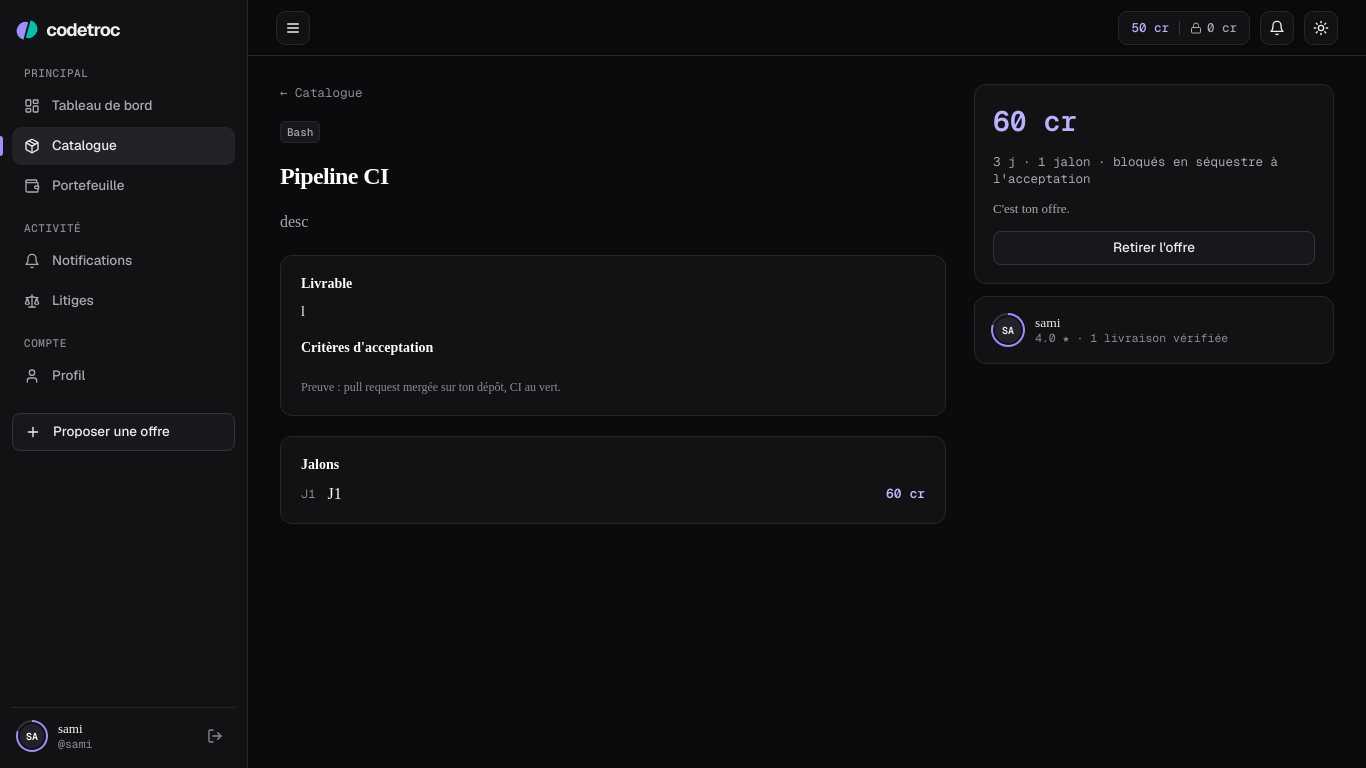
it: retrait d'offre (bug 2) › n'annonce pas de succès quand l'API répond 503
The width and height of the screenshot is (1366, 768).
Click the button "Retirer l'offre".
click(1154, 248)  # box [993,231,1315,265]
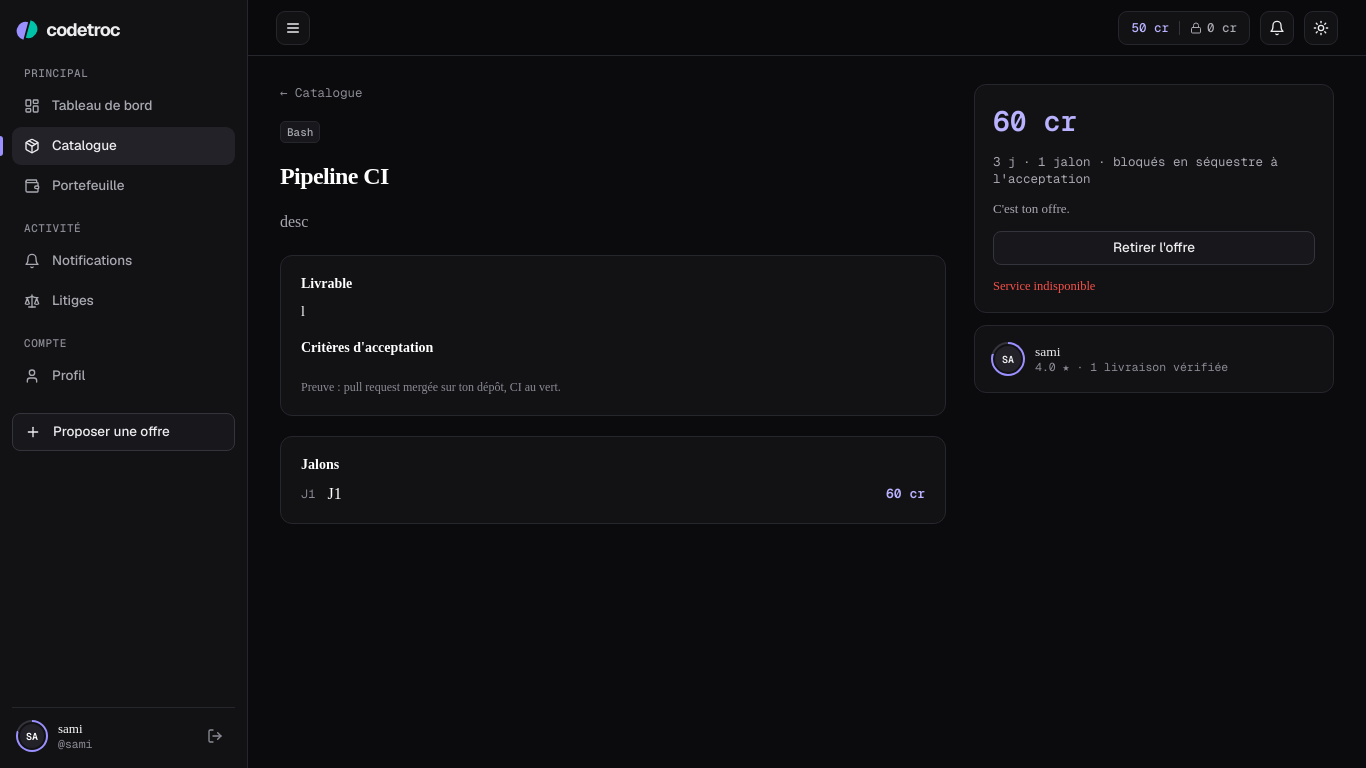
Expected: the heading "Pipeline CI" is shown, [280,163,389,189]
Result: the message reads "Service indisponible" at [993,279,1095,293]
